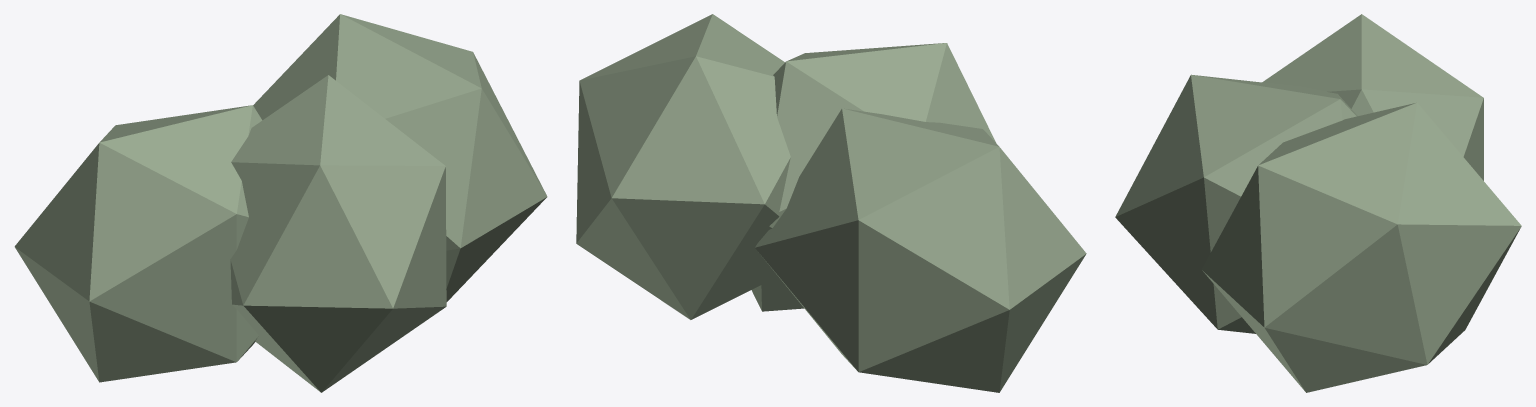
The picture shows the model from 3 angles, left to right: view 1: azimuth 30°, elevation 25°; view 2: azimuth 150°, elevation 25°; view 3: azimuth 270°, elevation 25°; orthographic projection. The views are drawn at different scales.
Visible parts, largest first — view 1: V06; view 2: V06; view 3: V06.
Part boxes in pixels (<box>): V06: <box>14,14,547,392</box>; V06: <box>576,14,1086,392</box>; V06: <box>1115,14,1521,392</box>.
Bounding box in the file's own units: 0.7965 × 0.4814 × 0.6229.
